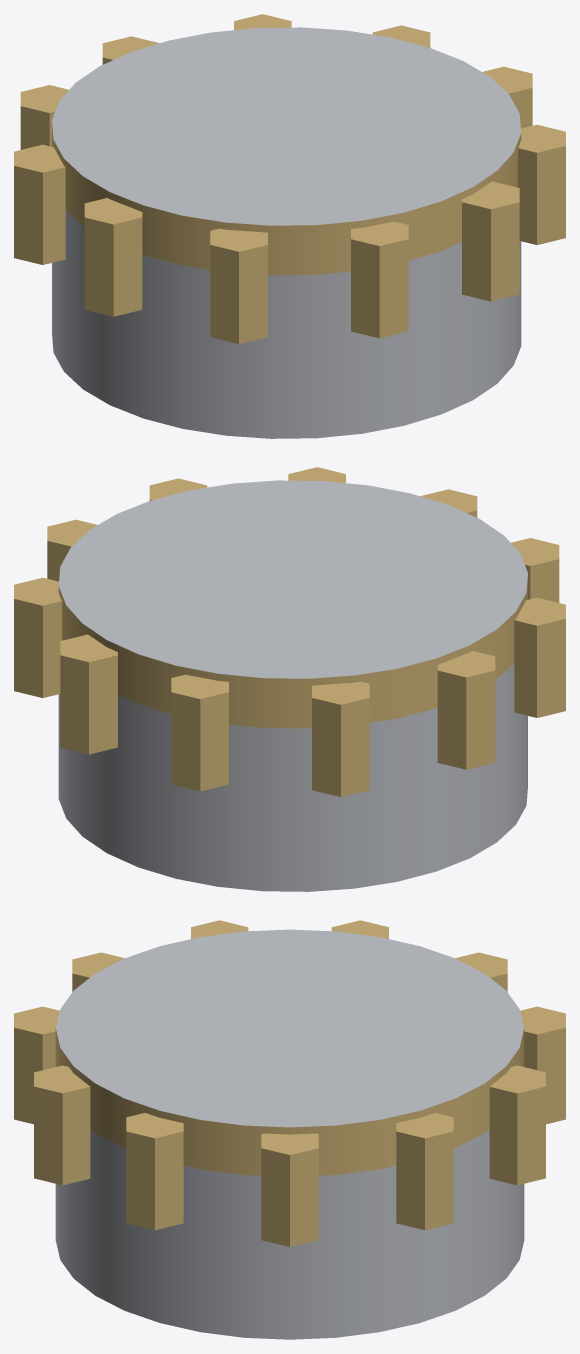
The picture shows the model from 3 angles, top to bottom: view 1: azimuth 30°, elevation 25°; view 2: azimuth 150°, elevation 25°; view 3: azimuth 270°, elevation 25°; orthographic projection.
Visible parts, largest first — view 1: ratchet_11-60; view 2: ratchet_11-60; view 3: ratchet_11-60.
Part boxes in pixels (left/top/right/bottom): ratchet_11-60: left=14, top=14, right=565, bottom=438; ratchet_11-60: left=14, top=467, right=565, bottom=891; ratchet_11-60: left=14, top=920, right=565, bottom=1339.
Size of the model in its own units: 14.24 by 6 by 14.14.
